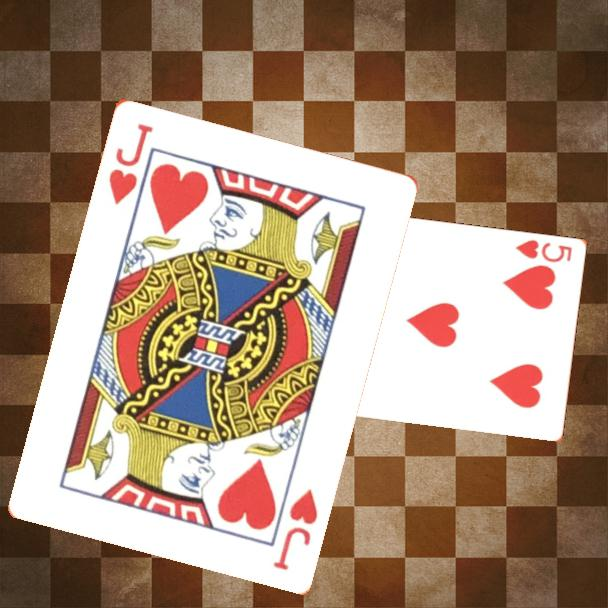h05: (512, 236, 575, 265)
h11: (105, 119, 156, 208), (269, 485, 320, 573)
